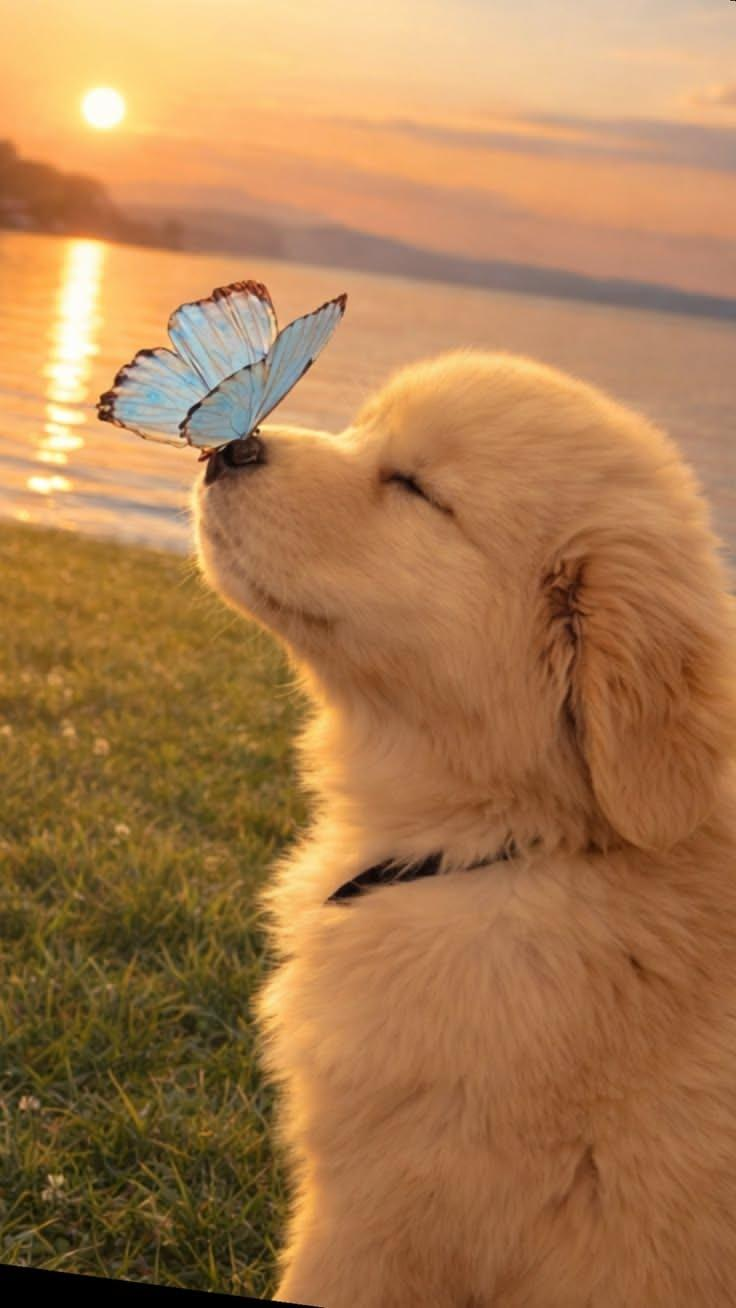non-dog: (96, 281, 348, 462)
puppy-dog: (185, 346, 736, 1308)
